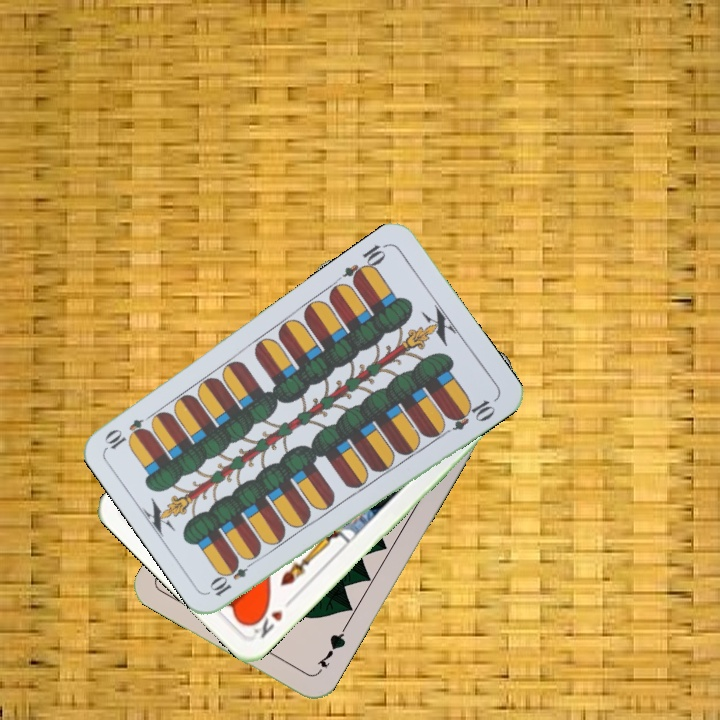E10: (339, 239, 391, 287), (206, 554, 259, 599)
G7: (313, 623, 349, 677)
HK: (244, 593, 297, 641)
